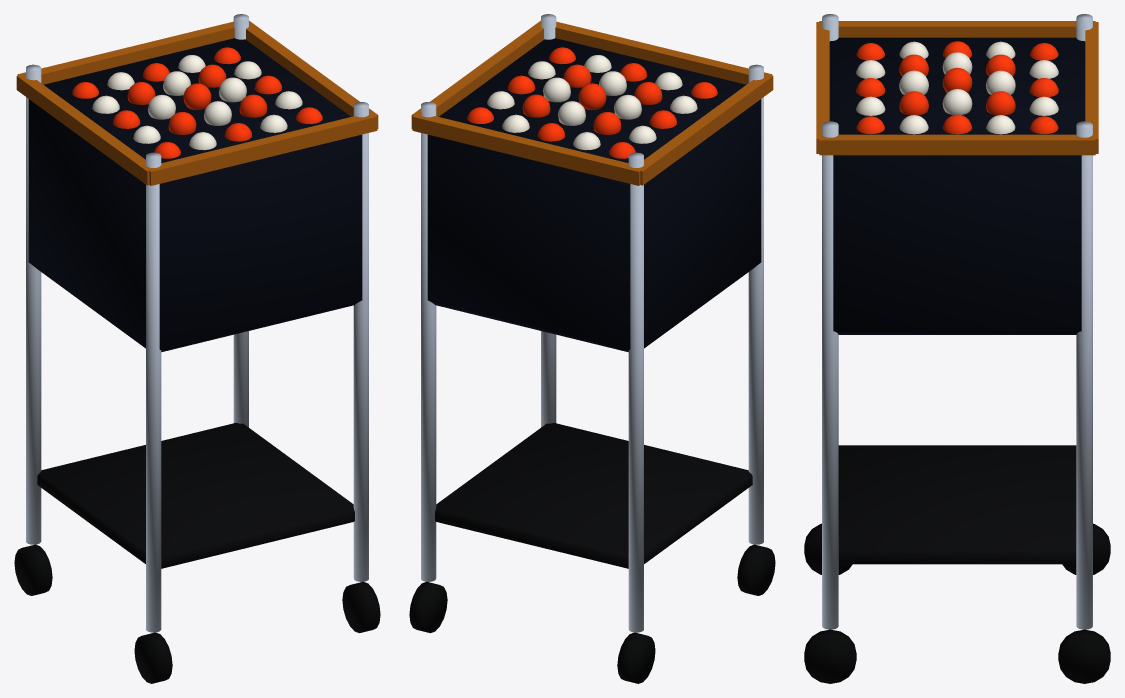
Rendered from cozy_tt_ball_hopper_caddy.obj.
3 views of the same model, side by side, from view 1: azimuth 30°, elevation 25°; view 2: azimuth 150°, elevation 25°; view 3: azimuth 270°, elevation 25° (orthographic). The views are drawn at different scales.
Visible parts, largest first — view 1: cozy_tt_ball_hopper_caddy_Mesh; view 2: cozy_tt_ball_hopper_caddy_Mesh; view 3: cozy_tt_ball_hopper_caddy_Mesh.
Boxes of the visible parts, <box> form: cozy_tt_ball_hopper_caddy_Mesh: <box>14,14,380,683</box>; cozy_tt_ball_hopper_caddy_Mesh: <box>409,14,775,683</box>; cozy_tt_ball_hopper_caddy_Mesh: <box>804,14,1110,683</box>.
Size of the model in its own units: 0.378 by 0.823 by 0.41.
